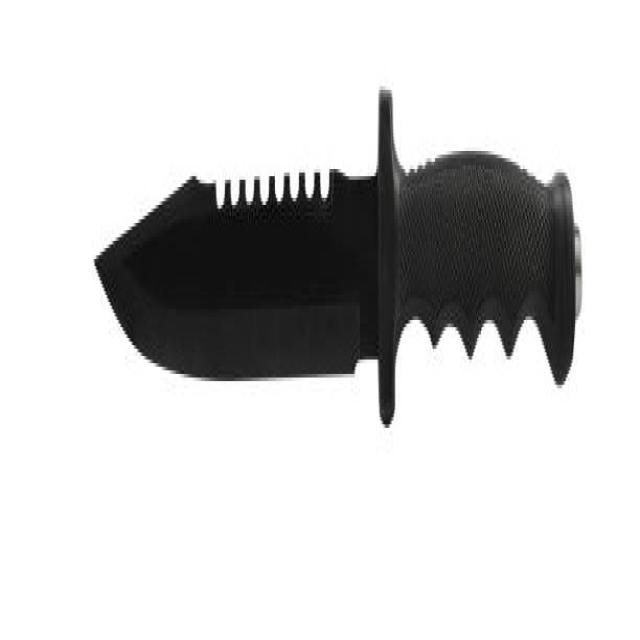knife: (82, 71, 586, 513)
